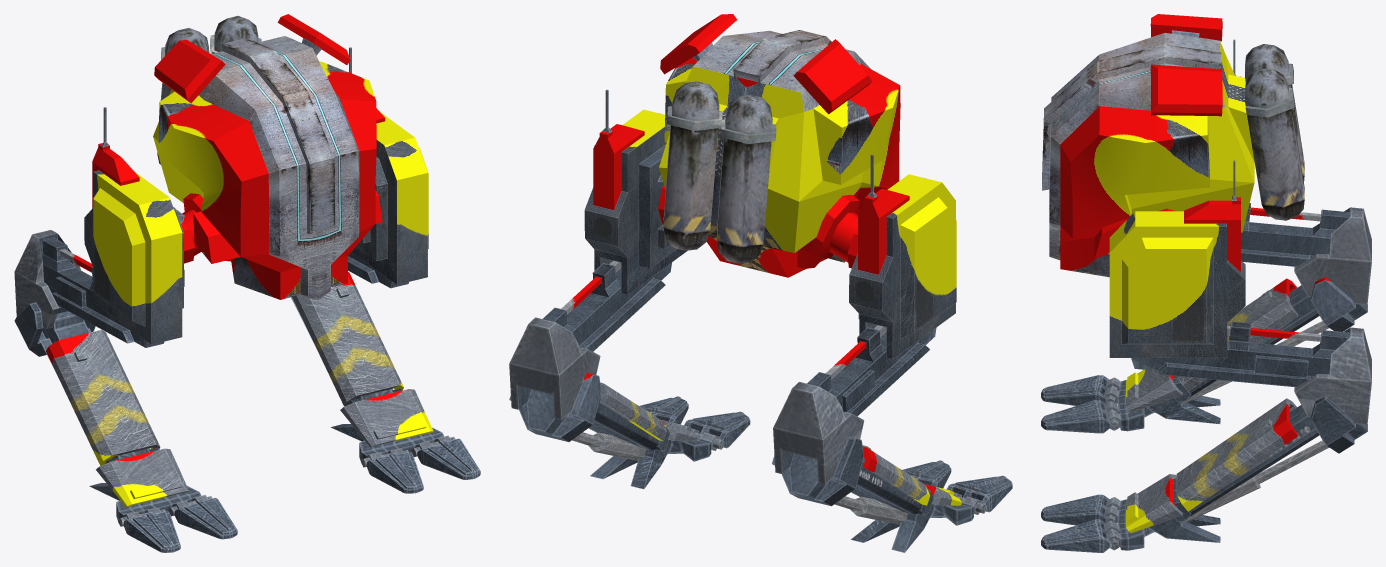
Rendered from MechaT.fbx.
The picture shows the model from 3 angles, left to right: view 1: azimuth 30°, elevation 25°; view 2: azimuth 150°, elevation 25°; view 3: azimuth 270°, elevation 25°; orthographic projection. The views are drawn at different scales.
Visible parts, largest first — view 1: Mech; view 2: Mech; view 3: Mech.
Boxes of the visible parts, box(x1,y1,x2,y2) form: Mech: box(14, 14, 480, 552); Mech: box(509, 14, 1012, 552); Mech: box(1041, 14, 1371, 552).
Size of what is drawn, in the model's own units: 11.39 by 13.91 by 9.7.
